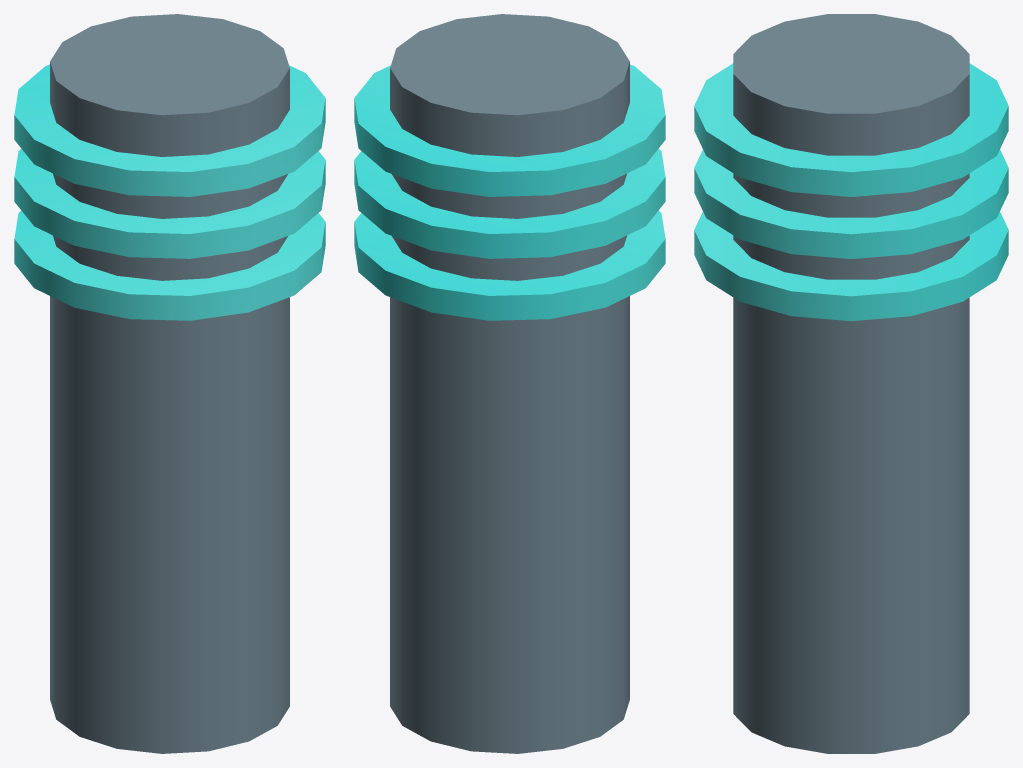
File: M_Plar_2.fbx
The picture shows the model from 3 angles, left to right: view 1: azimuth 30°, elevation 25°; view 2: azimuth 150°, elevation 25°; view 3: azimuth 270°, elevation 25°; orthographic projection.
Visible parts, largest first — view 1: M_Plar_2; view 2: M_Plar_2; view 3: M_Plar_2.
Boxes of the visible parts, <box> form: M_Plar_2: <box>14,14,325,753</box>; M_Plar_2: <box>354,14,665,753</box>; M_Plar_2: <box>694,14,1008,753</box>.
Size of the model in its own units: 18.37 by 41.26 by 18.37.
Materials: 1 (1 with a texture image).
